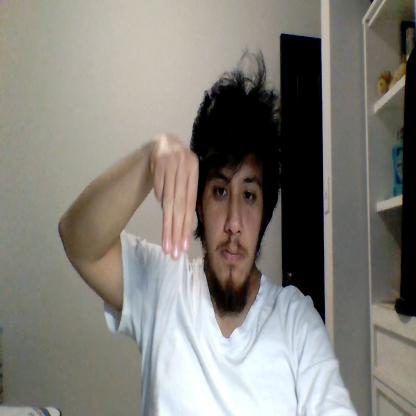M: (153, 132, 199, 259)
